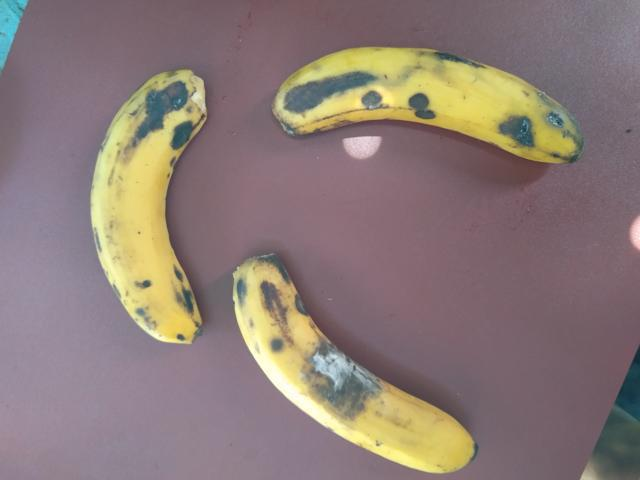overripe: (209, 242, 502, 473), (269, 37, 616, 181), (79, 55, 225, 364)
rotten: (288, 324, 397, 438)
